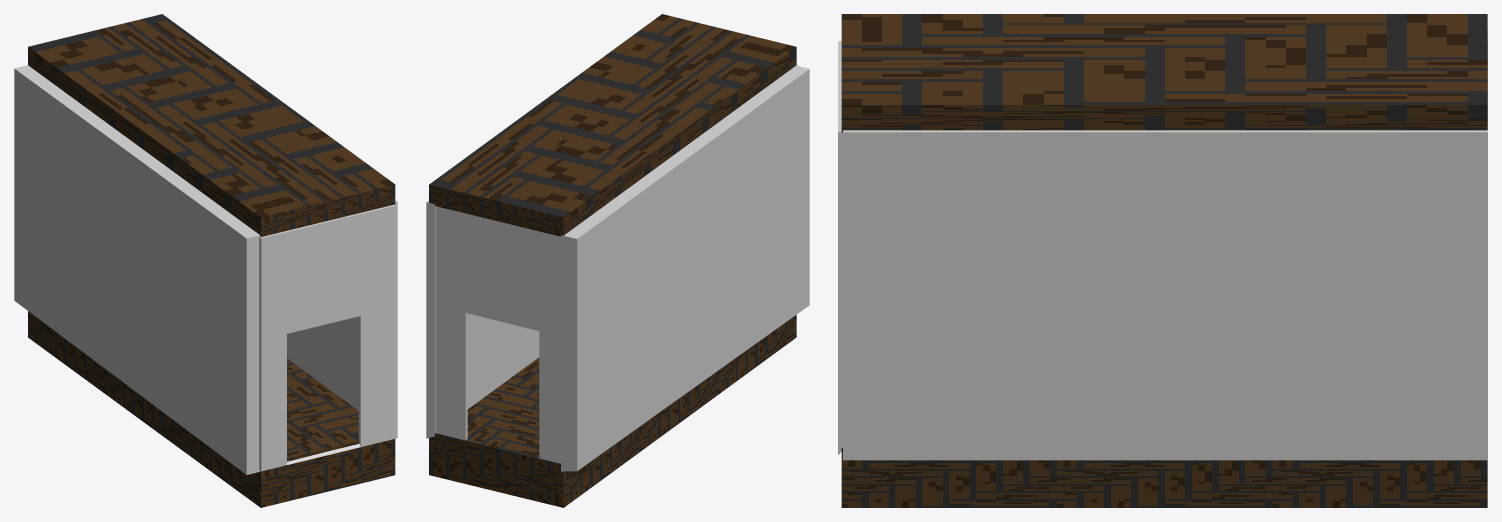
Rendered from hallwaylvl1.fbx.
3 renders of one model, left to right at view 1: azimuth 30°, elevation 25°; view 2: azimuth 150°, elevation 25°; view 3: azimuth 270°, elevation 25°, orthographic. The views are drawn at different scales.
Visible parts, largest first — view 1: hallwayWall.003, hallway.002, hallwayWallDoorway.003, hallway.003, hallwayWall.000; view 2: hallwayWall.003, hallway.002, hallwayWallDoorway.002, hallway.003, hallwayWall.000; view 3: hallwayWall.000, hallway.002, hallway.003, hallwayWallDoorway.003.
Boxes of the visible parts, box(x1,y1,x2,y2) form: hallwayWall.003: box(14, 65, 260, 474); hallway.002: box(28, 14, 395, 236); hallwayWallDoorway.003: box(259, 204, 396, 471); hallway.003: box(28, 311, 395, 507); hallwayWall.000: box(287, 200, 397, 438); hallwayWall.003: box(561, 65, 809, 471); hallway.002: box(429, 14, 796, 236); hallwayWallDoorway.002: box(435, 206, 560, 463); hallway.003: box(429, 315, 796, 507); hallwayWall.000: box(426, 200, 539, 438); hallwayWall.000: box(843, 126, 1487, 460); hallway.002: box(841, 14, 1487, 132); hallway.003: box(841, 448, 1487, 507); hallwayWallDoorway.003: box(838, 41, 842, 454).
Size of the model in its own units: 332 by 611 by 893.
